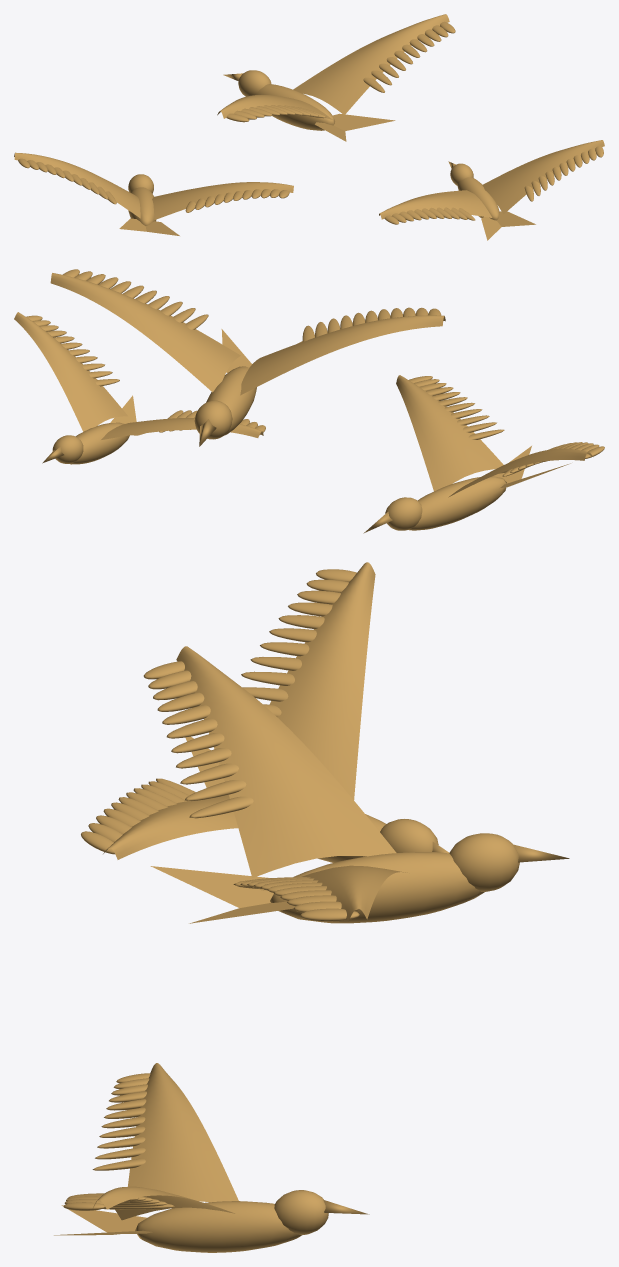
File: bronze-swallows.glb
The picture shows the model from 3 angles, top to bottom: view 1: azimuth 30°, elevation 25°; view 2: azimuth 150°, elevation 25°; view 3: azimuth 270°, elevation 25°; orthographic projection. The views are drawn at different scales.
Visible parts, largest first — view 1: WING_1_1, WING_2_1, WING_0_1, WING_2_-1, WING_0_-1, BODY_1, WING_1_-1, BODY_2, TAIL_1_1, BODY_0, HEAD_1, TAIL_2_1 (+2 smaller); view 2: WING_1_1, WING_0_1, WING_1_-1, WING_2_1, BODY_0, BODY_1, WING_2_-1, BODY_2, WING_0_-1, HEAD_1, HEAD_0, HEAD_2 (+1 smaller); view 3: WING_1_-1, WING_0_-1, WING_2_-1, BODY_1, BODY_2, WING_0_1, HEAD_1, WING_1_1, TAIL_1_-1, HEAD_2, WING_2_1, HEAD_0 (+1 smaller).
Part boxes in pixels (x1,y1,x2,y2): WING_1_1: (293,14,449,114); WING_2_1: (482,140,604,214); WING_0_1: (152,182,293,219); WING_2_-1: (379,190,492,219); WING_0_-1: (14,152,140,218); BODY_1: (255,84,334,130); WING_1_-1: (217,95,332,119); BODY_2: (457,177,499,220); TAIL_1_1: (333,113,395,130); BODY_0: (128,187,156,225); HEAD_1: (238,70,271,96); TAIL_2_1: (497,211,535,226); WING_1_1: (50,273,240,392); WING_0_1: (396,375,503,491); WING_1_-1: (240,315,445,395); WING_2_1: (14,312,127,431); BODY_0: (408,476,506,530); BODY_1: (206,366,256,435); WING_2_-1: (101,418,263,439); BODY_2: (69,422,129,464); WING_0_-1: (448,448,592,497); HEAD_1: (194,400,232,439); HEAD_0: (385,497,422,530); HEAD_2: (52,435,83,463); WING_1_-1: (176,646,396,877); WING_0_-1: (269,562,375,799); WING_2_-1: (127,1063,238,1202); BODY_1: (270,852,484,923); BODY_2: (135,1201,302,1252); WING_0_1: (103,794,238,859); HEAD_1: (449,833,519,891); WING_1_1: (263,865,407,921); TAIL_1_-1: (150,866,273,907); HEAD_2: (274,1190,328,1234); WING_2_1: (93,1186,234,1220); HEAD_0: (380,819,438,852).
Size of the model in its own units: 6.43 by 2.02 by 2.78.
